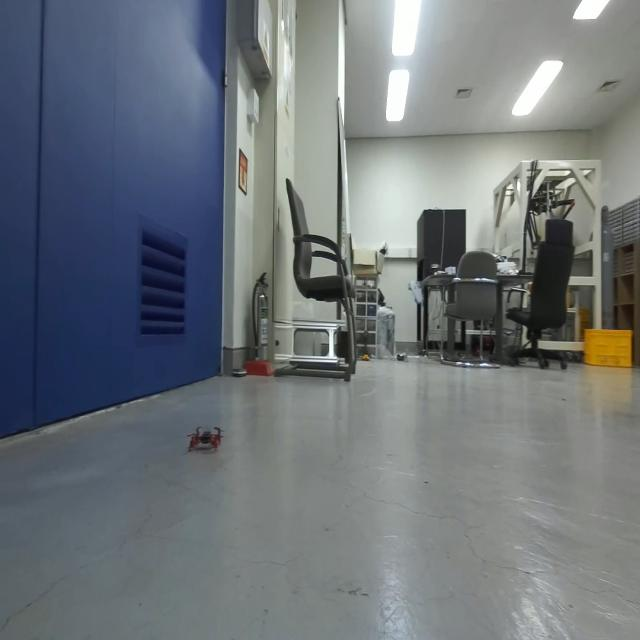crazyflie: (187, 418, 229, 459)
